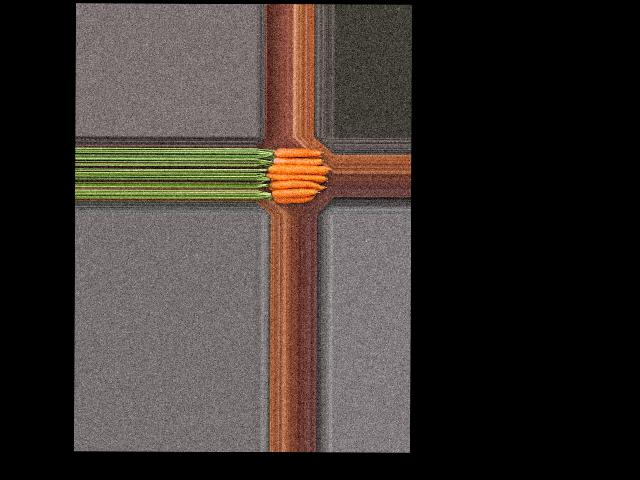carrot: (272, 194, 320, 207)
